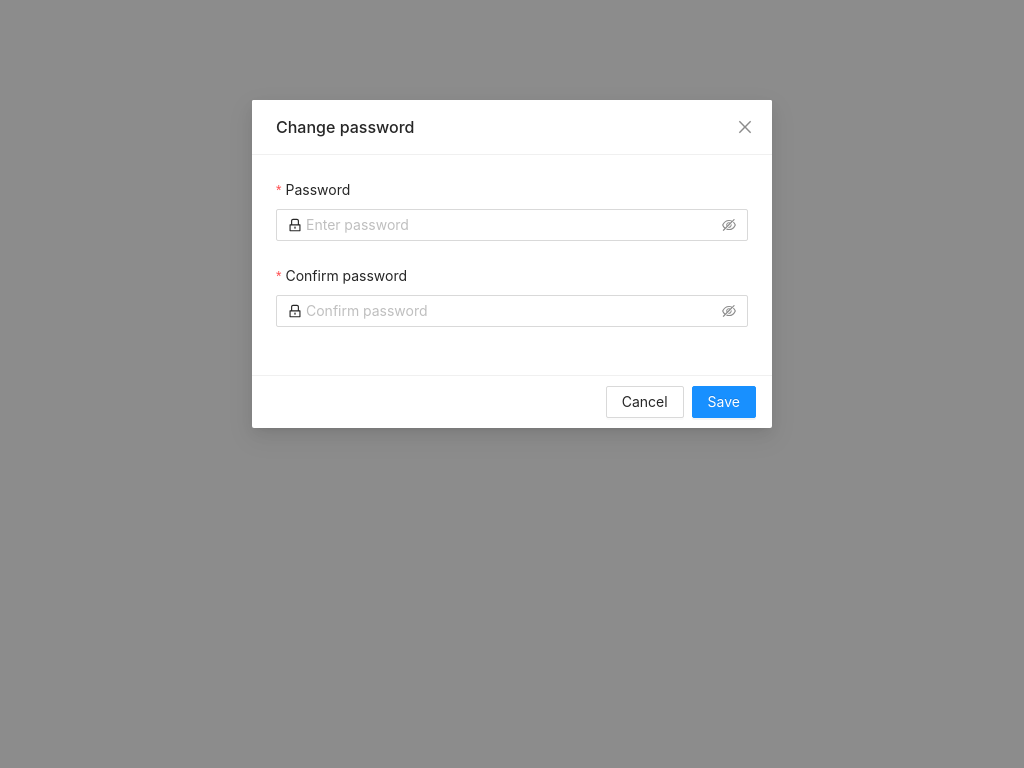
it: <ChangePasswordForm /> render › Should render with error messages
Check: the text "Password is required" is not shown
Click the button "Save" at x=724, y=402, box x1=692 y1=386 x2=756 y2=418
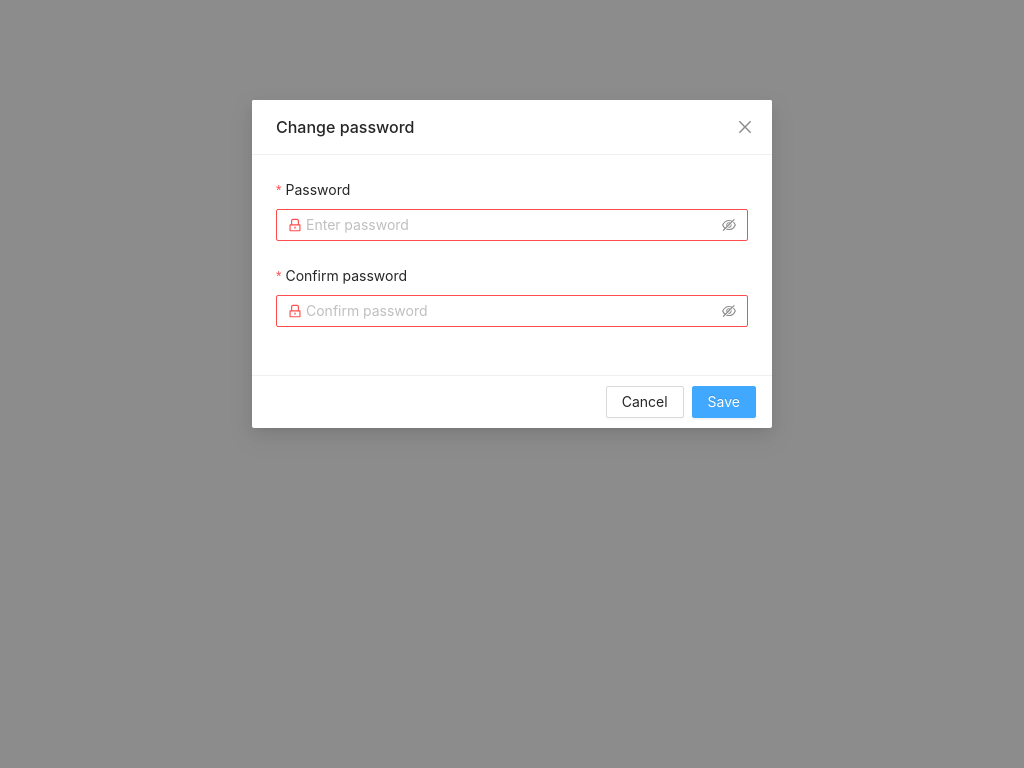
Type "pass" into the password field with placeholder "Enter password" at x=512, y=225, box x1=306 y1=214 x2=718 y2=236
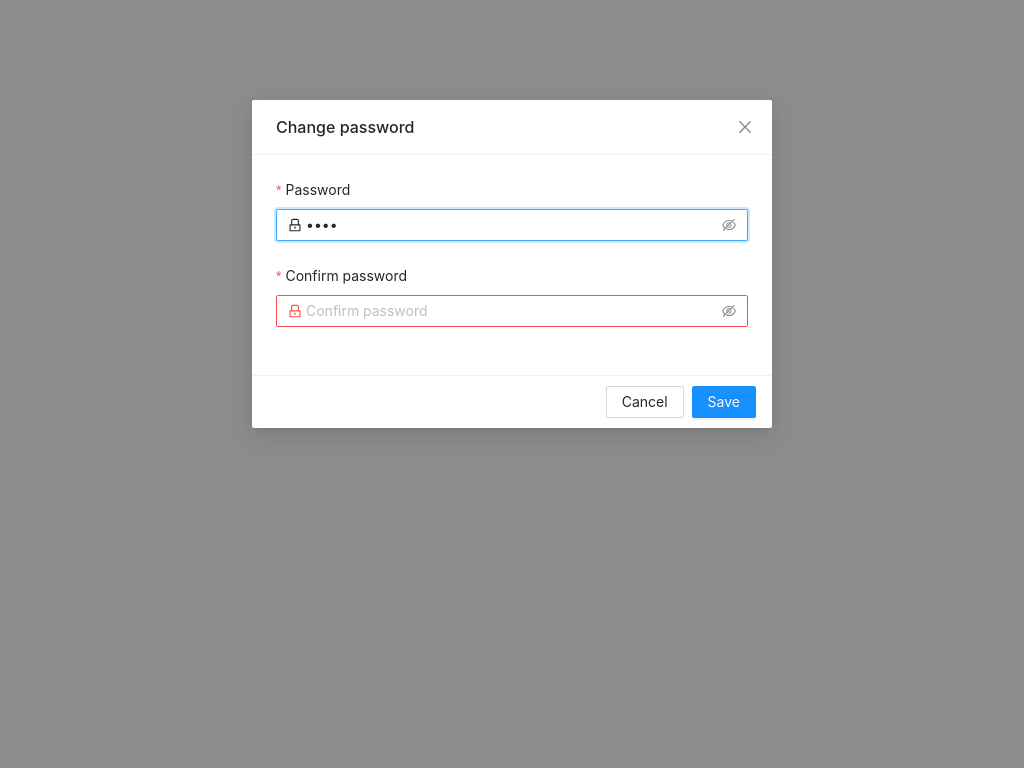
Type "pass" into the password field with placeholder "Confirm password" at x=512, y=311, box x1=306 y1=300 x2=718 y2=322
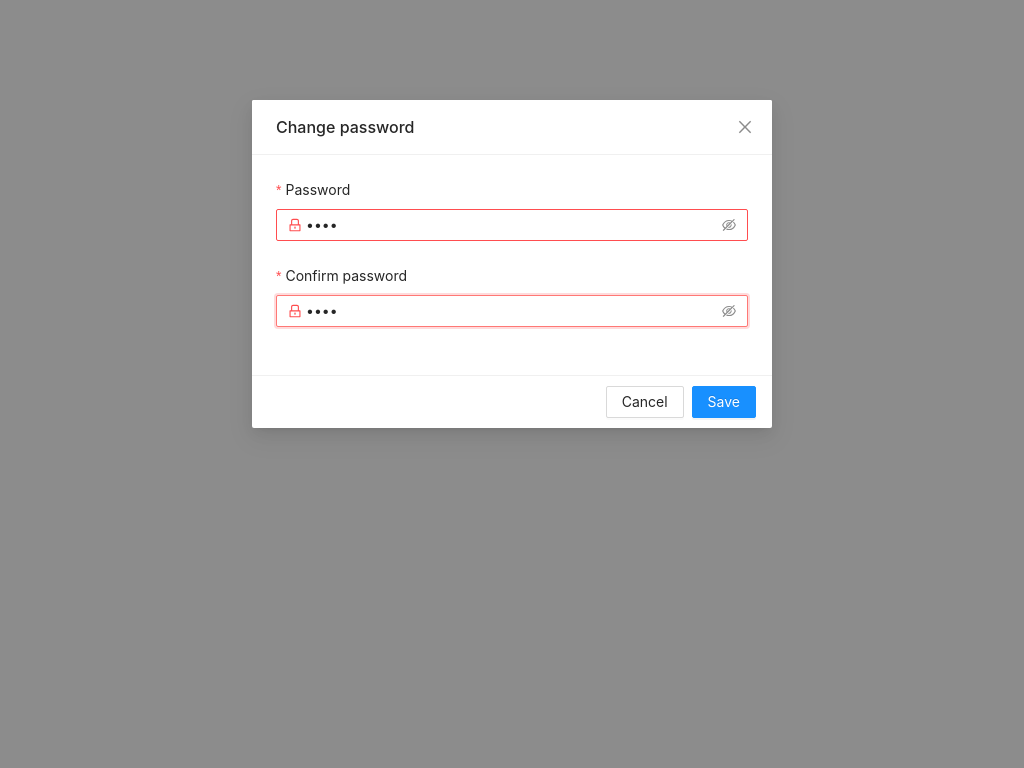
Type "password" into the password field with placeholder "Enter password" at x=512, y=225, box x1=306 y1=214 x2=718 y2=236
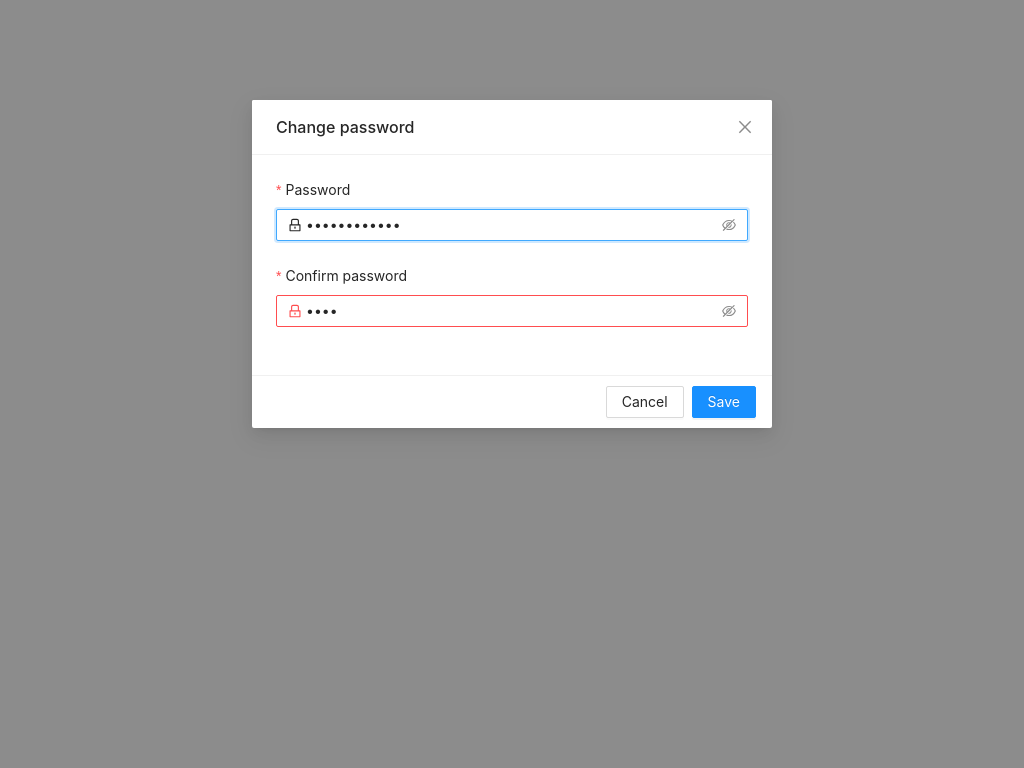
Type "passwordS" into the password field with placeholder "Confirm password" at x=512, y=311, box x1=306 y1=300 x2=718 y2=322
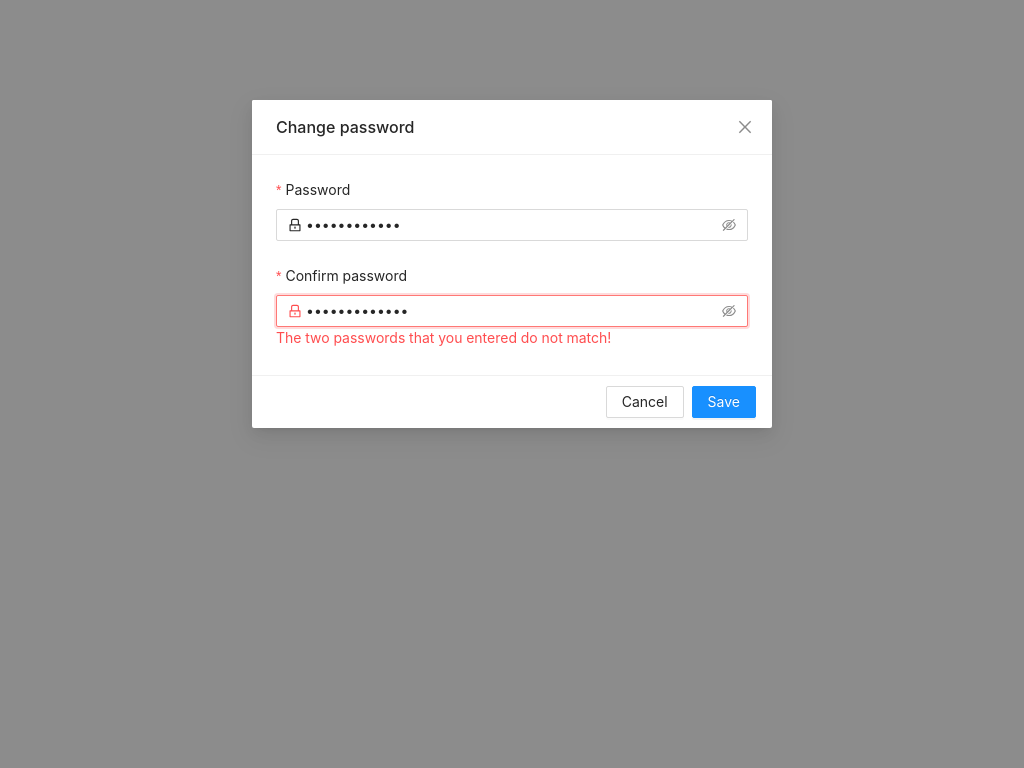
Check: the text "The two passwords that you entered do not match!" is shown once, box x1=276 y1=329 x2=611 y2=346
